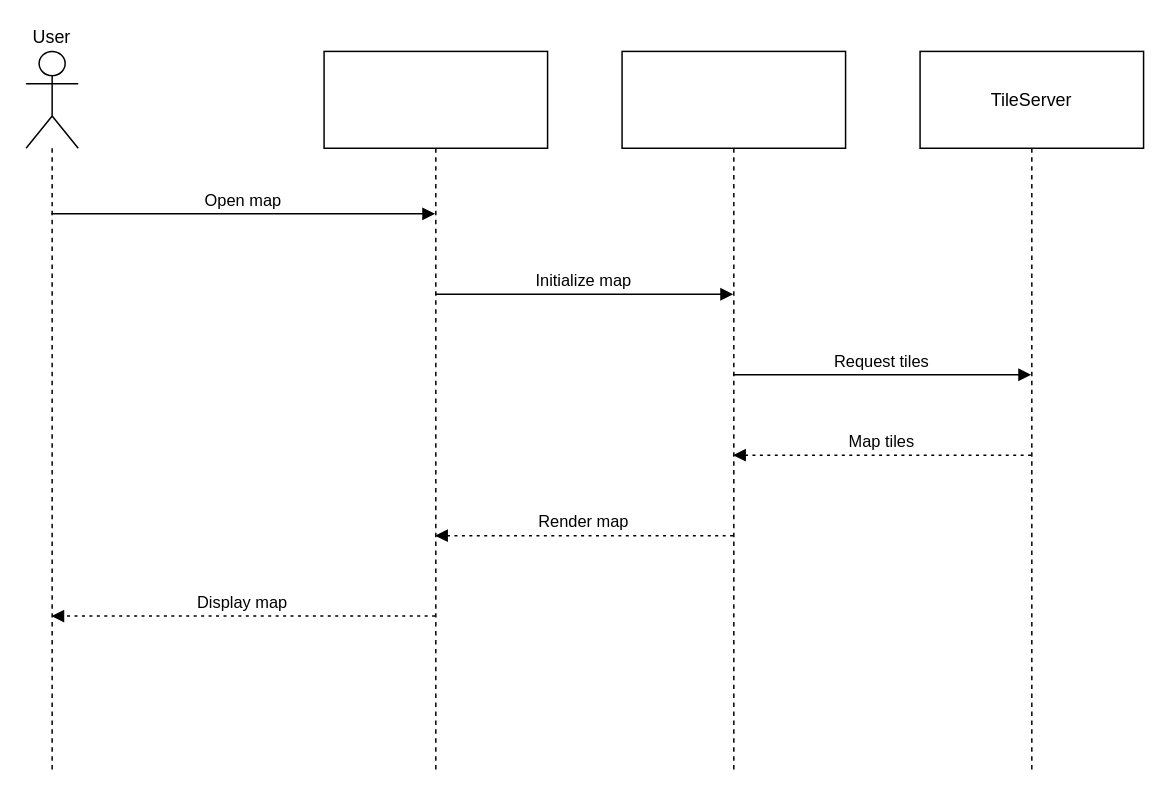
This 1170x799 diagram has some shape labels left out. Each missing label, with the box of its shape:
MapEngine: (621, 50, 846, 773)
UI: (323, 50, 548, 773)
